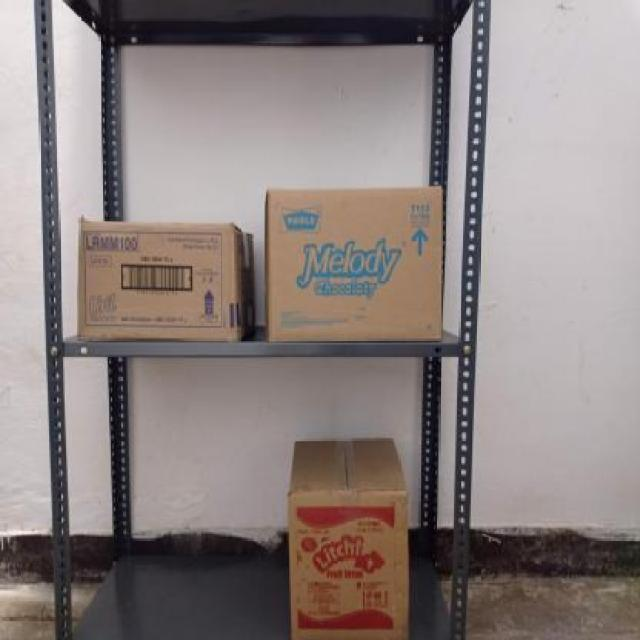box: (266, 187, 445, 341), (76, 220, 236, 338), (288, 489, 407, 640)
